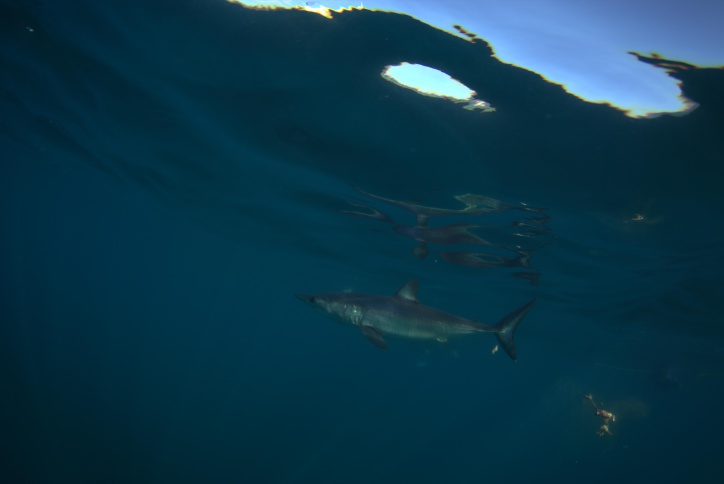Mako: (271, 266, 542, 378)
